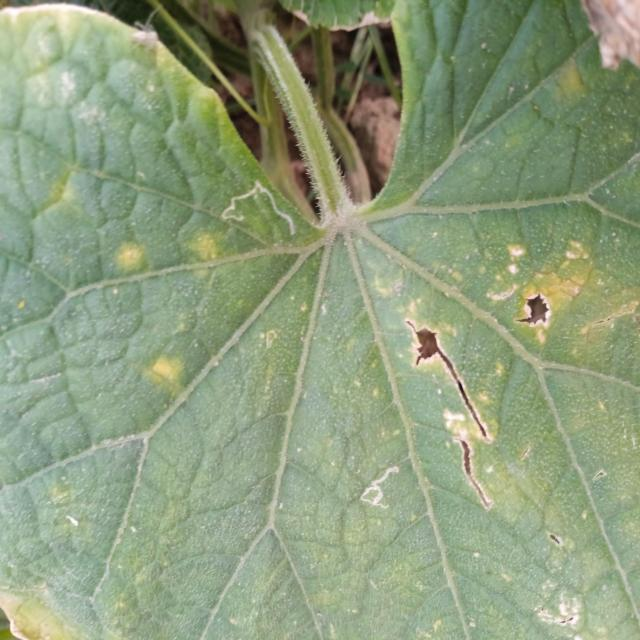cucumber_downy: (3, 27, 640, 628)
